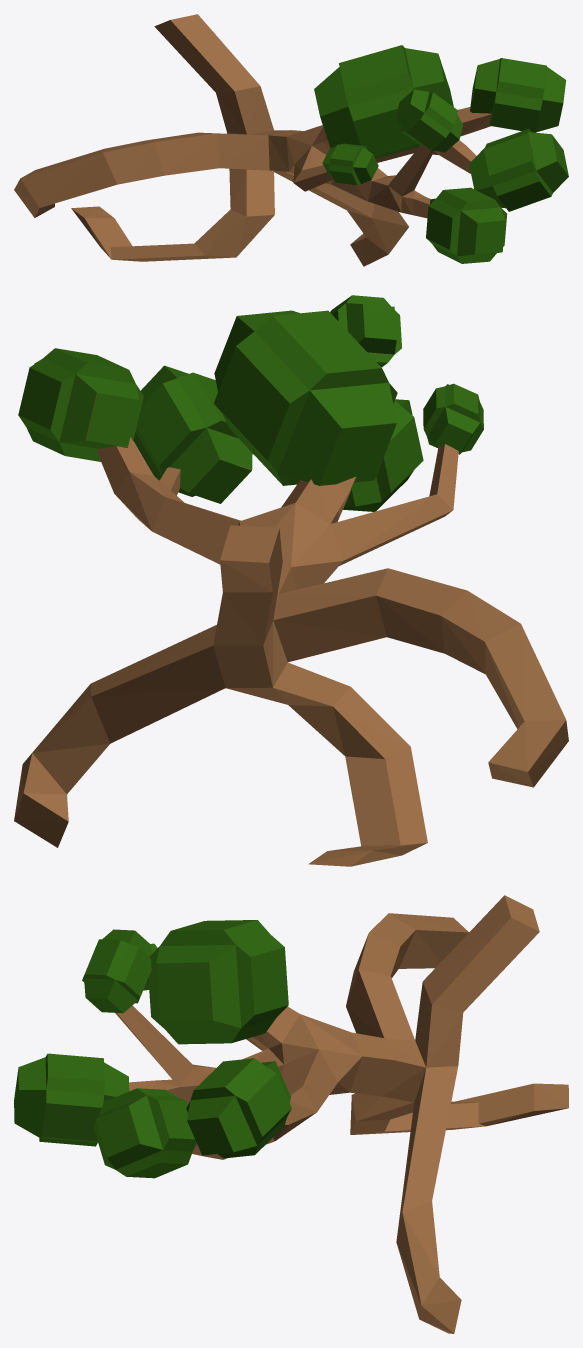
Rendered from bush.obj.
The picture shows the model from 3 angles, top to bottom: view 1: azimuth 30°, elevation 25°; view 2: azimuth 150°, elevation 25°; view 3: azimuth 270°, elevation 25°; orthographic projection. The views are drawn at different scales.
Parts seen in each view (by area): view 1: bush.001; view 2: bush.001; view 3: bush.001.
Part boxes in pixels (x1,y1,x2,y2): bush.001: (14, 14, 568, 266); bush.001: (14, 295, 568, 866); bush.001: (14, 895, 568, 1333).
Size of the model in its own units: 0.9745 by 0.621 by 0.8392.
1 material, 1 textured.
